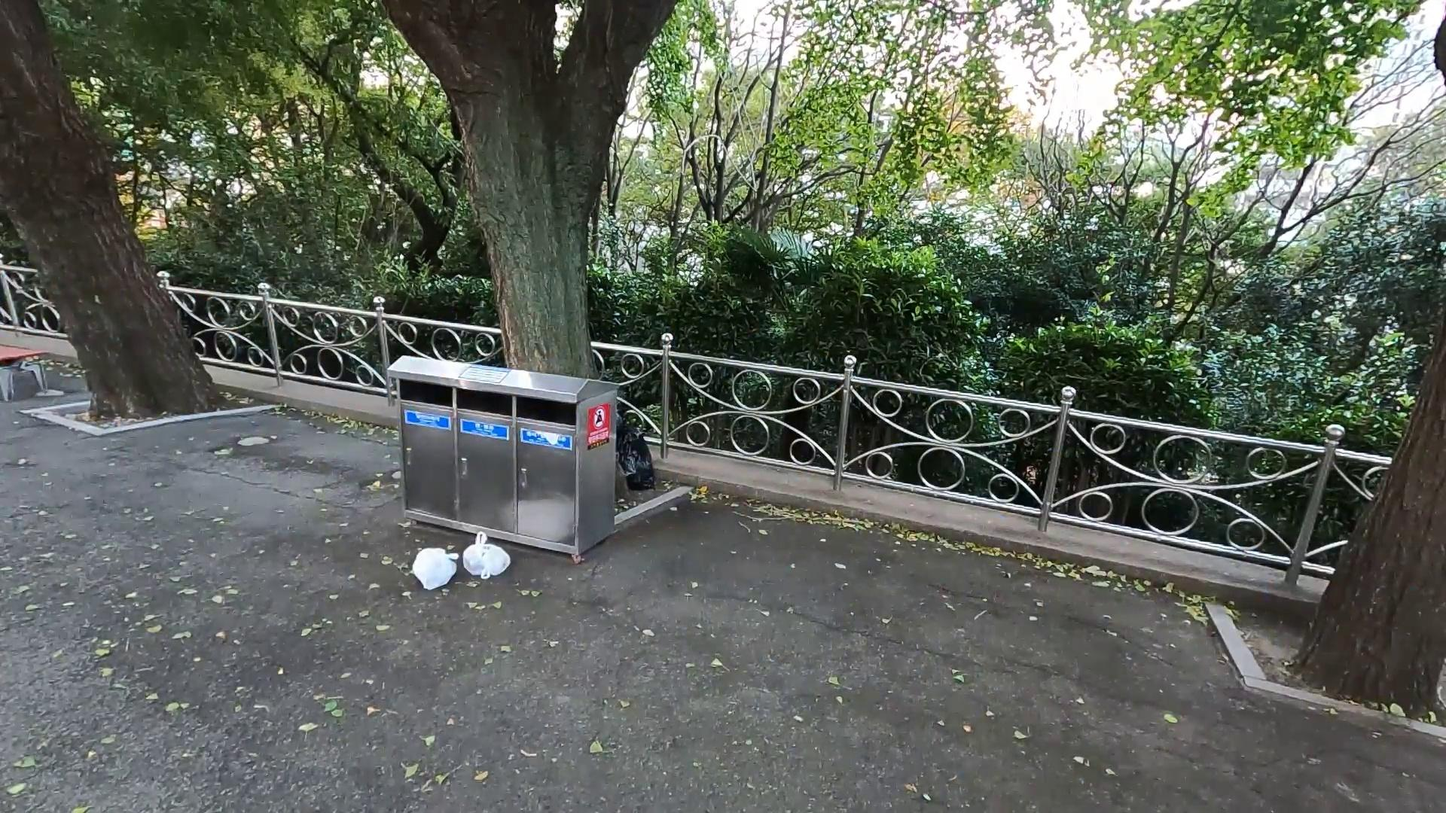trash: (618, 409, 657, 490), (460, 531, 512, 582), (407, 546, 461, 592)
